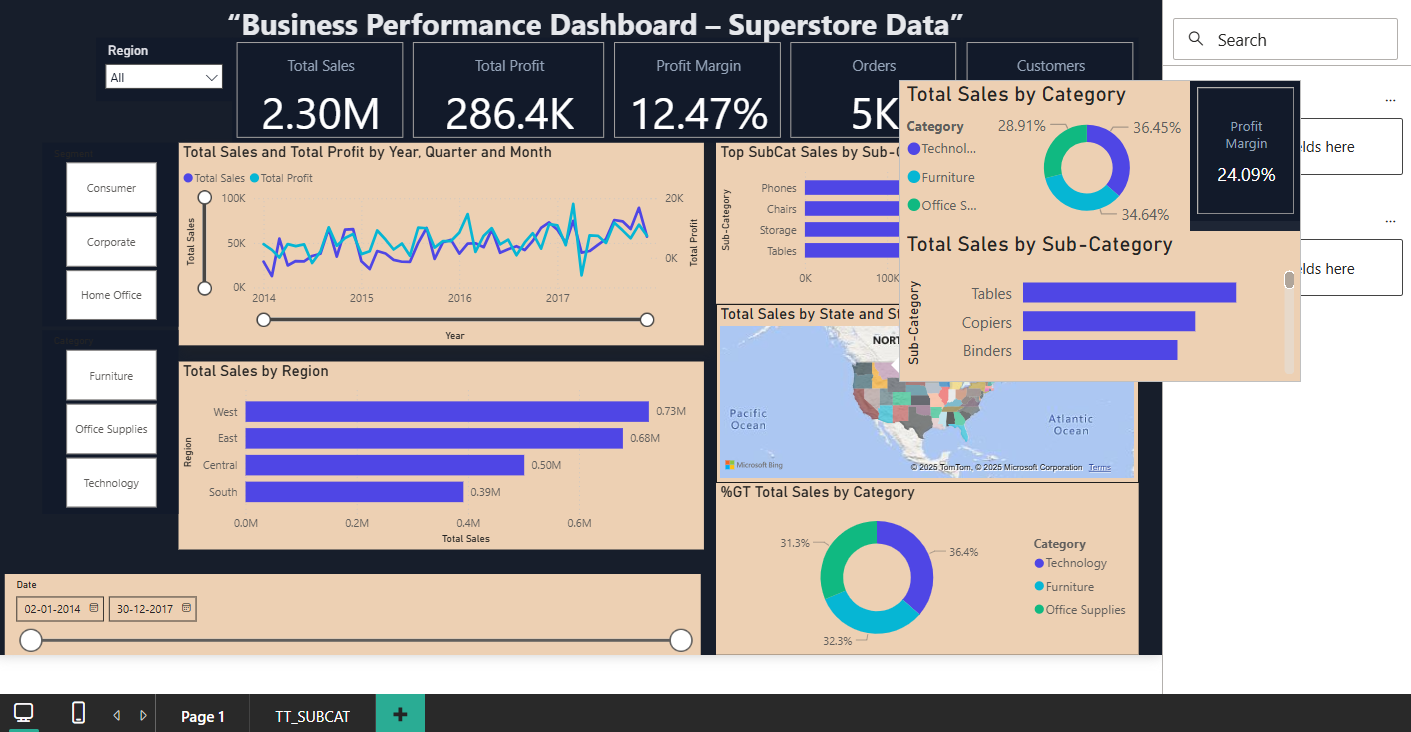

The page's visual inventory and layout, read from the dashboard file:
{"tool":"powerbi","page":{"name":"Page 1","canvas":[1280,720],"ordinal":0},"visuals":[{"type":"cardVisual","fields":{"Data":["TopN.Total Sales"]},"box":[258.9,42.9,193.9,115.3],"z":0},{"type":"cardVisual","fields":{"Data":["TopN.Total Profit"]},"box":[452.8,42.9,220.9,115.3],"z":1000},{"type":"cardVisual","fields":{"Data":["TopN.Profit Margin"]},"box":[673.6,42.9,193.9,115.3],"z":2000},{"type":"cardVisual","fields":{"Data":["TopN.Orders"]},"box":[867.5,42.9,192.6,115.3],"z":3000},{"type":"cardVisual","fields":{"Data":["TopN.Customers"]},"box":[1060.1,42.9,193.9,115.3],"z":4000},{"type":"lineChart","fields":{"Category":["Date.Date.Variation.Date Hierarchy.Year","Date.Date.Variation.Date Hierarchy.Quarter","Date.Date.Variation.Date Hierarchy.Month"],"Y":["TopN.Total Sales"],"Y2":["TopN.Total Profit"]},"box":[200,158.3,576.7,222.1],"z":5000},{"type":"clusteredBarChart","fields":{"Category":["Sample - Superstore.Region"],"Y":["TopN.Total Sales"]},"box":[200,397.5,576.7,206.1],"z":6000},{"type":"donutChart","fields":{"Category":["Sample - Superstore.Category"],"Y":["TopN.Total Sales"]},"box":[790.2,531.3,463.8,189],"z":7000},{"type":"clusteredBarChart","fields":{"Category":["Sample - Superstore.Sub-Category"],"Y":["TopN.Top SubCat Sales"]},"box":[790.2,158.3,463.8,176.7],"z":8000},{"type":"filledMap","fields":{"Category":["Sample - Superstore.State"],"Series":["Sample - Superstore.State"]},"box":[790.2,335,463.8,196.3],"z":9000},{"type":"slicer","fields":{"Values":["Date.Date"]},"box":[9.8,631.9,763.2,88.3],"z":10000},{"type":"slicer","fields":{"Values":["Sample - Superstore.Region"]},"box":[109.8,42.5,149.6,70],"z":11000},{"type":"slicer","fields":{"Values":["Sample - Superstore.Segment"]},"box":[50.8,157.8,149.6,201.7],"z":12000},{"type":"slicer","fields":{"Values":["Sample - Superstore.Category"]},"box":[50.8,363.6,149.6,201.7],"z":13000},{"type":"textbox","box":[50.8,0,1214.4,53.5],"z":16000}]}

Visuals, with their boxes on the page's 1280x720 design canvas (x1, y1, x2, y2). These are canvas units, not pixel positions in the 1411x732 screenshot, which may show the page scaled, cropped or inside an application window:
cardVisual - TopN.Total Sales: crop(259, 43, 453, 158)
cardVisual - TopN.Total Profit: crop(453, 43, 674, 158)
cardVisual - TopN.Profit Margin: crop(674, 43, 868, 158)
cardVisual - TopN.Orders: crop(868, 43, 1060, 158)
cardVisual - TopN.Customers: crop(1060, 43, 1254, 158)
lineChart - Date.Date.Variation.Date Hierarchy.Year x Date.Date.Variation.Date Hierarchy.Quarter: crop(200, 158, 777, 380)
clusteredBarChart - Sample - Superstore.Region x TopN.Total Sales: crop(200, 398, 777, 604)
donutChart - Sample - Superstore.Category x TopN.Total Sales: crop(790, 531, 1254, 720)
clusteredBarChart - Sample - Superstore.Sub-Category x TopN.Top SubCat Sales: crop(790, 158, 1254, 335)
filledMap - Sample - Superstore.State x Sample - Superstore.State: crop(790, 335, 1254, 531)
slicer - Date.Date: crop(10, 632, 773, 720)
slicer - Sample - Superstore.Region: crop(110, 42, 259, 112)
slicer - Sample - Superstore.Segment: crop(51, 158, 200, 360)
slicer - Sample - Superstore.Category: crop(51, 364, 200, 565)
textbox: crop(51, 0, 1265, 54)
